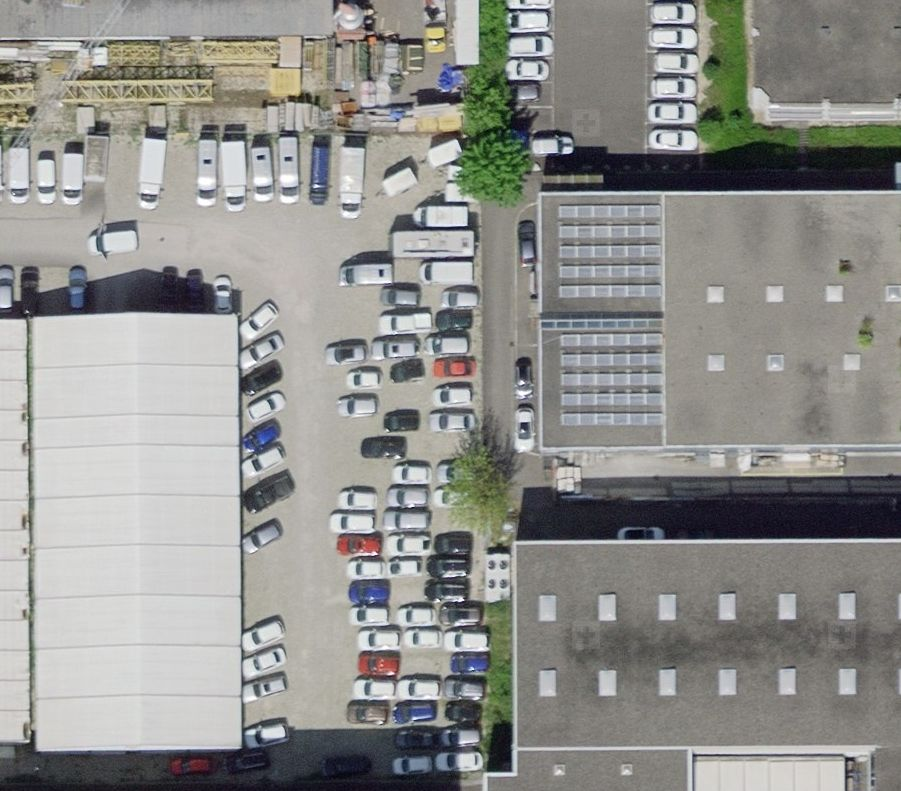solar: (553, 201, 670, 432)
